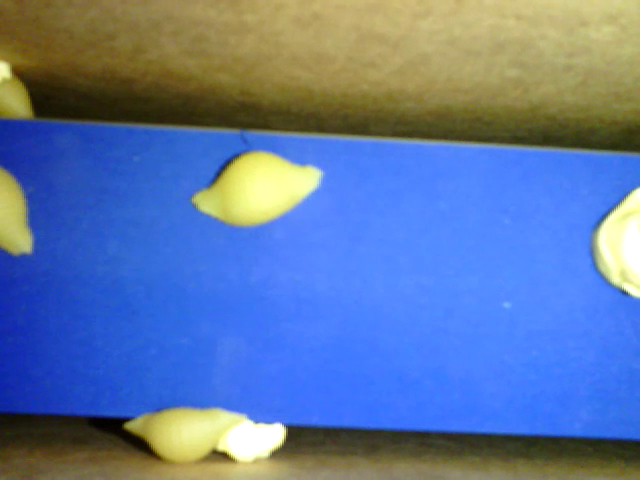shell: (190, 148, 330, 231), (128, 404, 247, 459), (1, 169, 42, 258)
tortellini: (594, 183, 639, 306)
